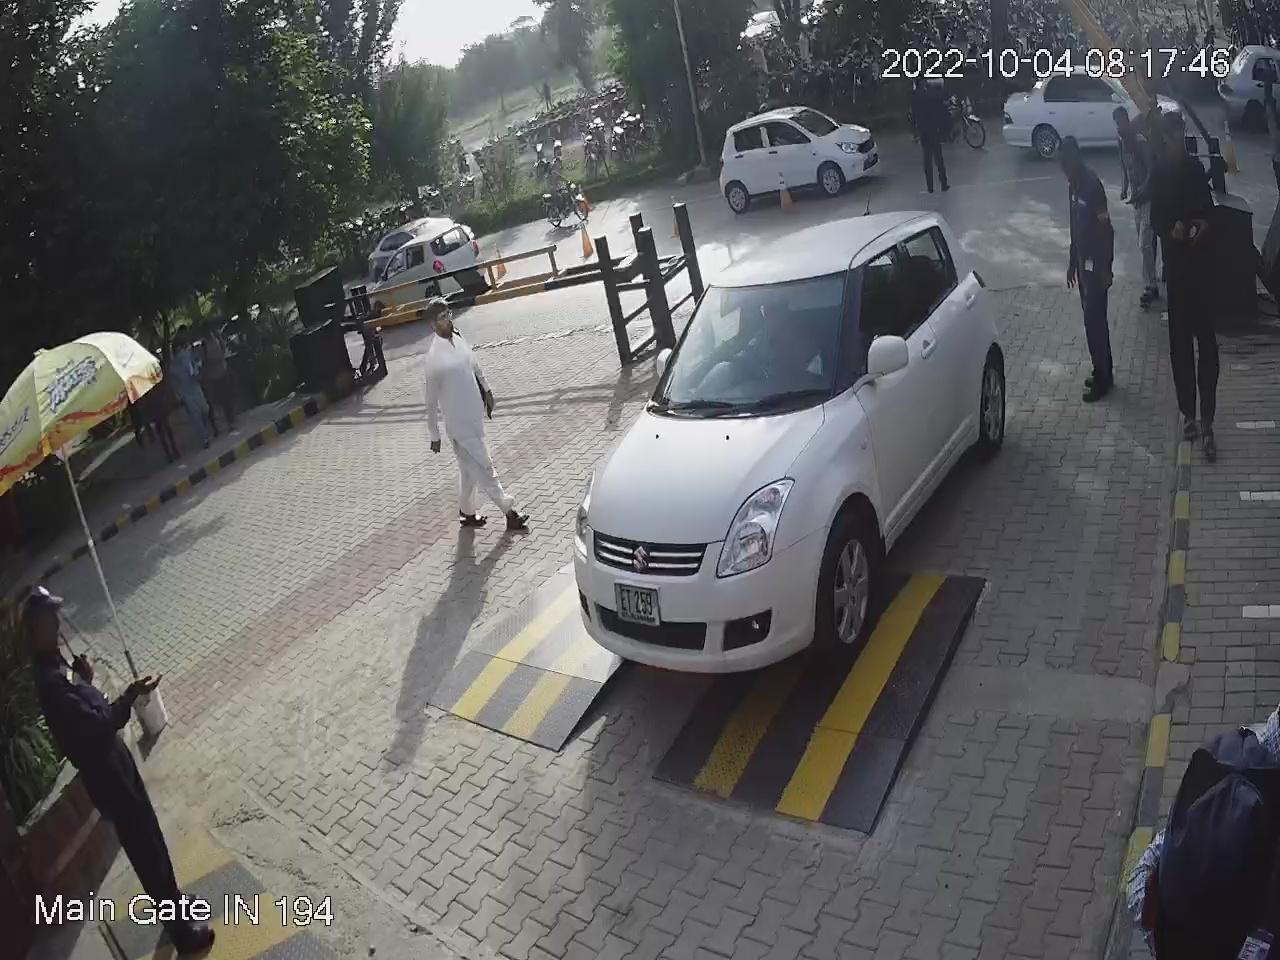windshield: (648, 265, 856, 410)
